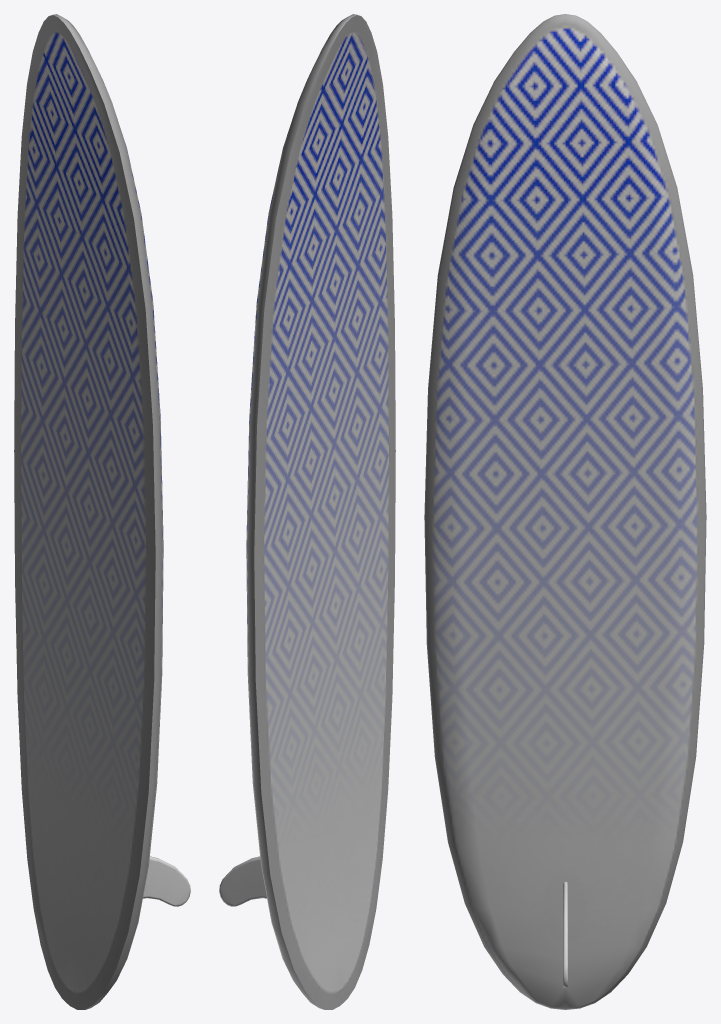
File: MB_Surfboard_04.fbx
3 renders of one model, left to right at view 1: azimuth 30°, elevation 25°; view 2: azimuth 150°, elevation 25°; view 3: azimuth 270°, elevation 25°, orthographic.
Visible parts, largest first — view 1: MB_Surfboard_04_LOD0; view 2: MB_Surfboard_04_LOD0; view 3: MB_Surfboard_04_LOD0.
Part boxes in pixels (<box>): MB_Surfboard_04_LOD0: <box>14,14,190,1009</box>; MB_Surfboard_04_LOD0: <box>219,14,395,1009</box>; MB_Surfboard_04_LOD0: <box>424,14,706,1009</box>.
Size of what is drawn, in the model's own units: 25.35 by 183 by 47.22.
